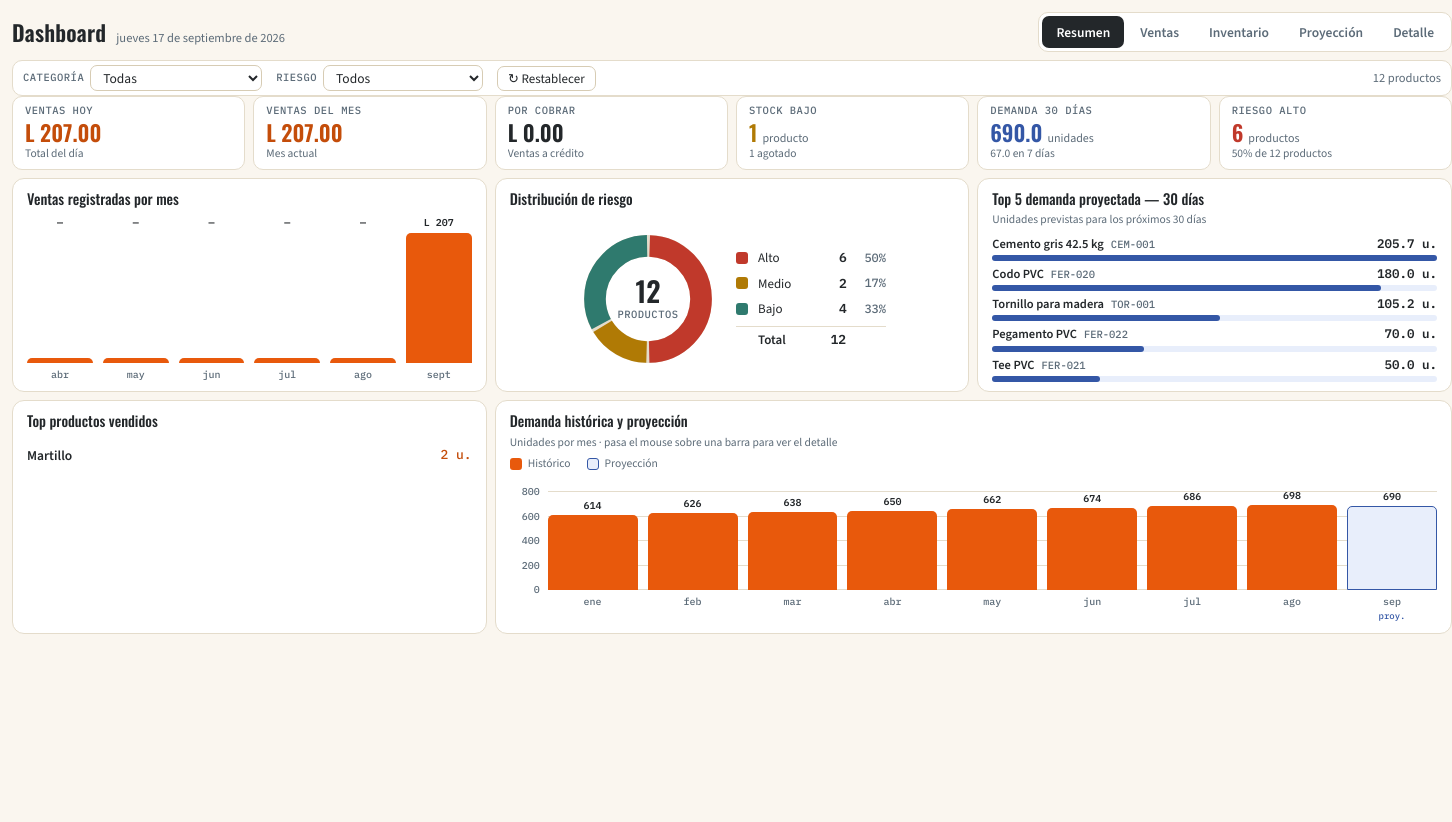
Test case: navegación entre vistas › Proyección muestra sus cinco cifras, los períodos y las cuatro gráficas
Check: the text "Distribución de riesgo" is shown, box [510,188,633,209]
Click the tab "Proyección": (1331, 32) [1285,16,1377,48]
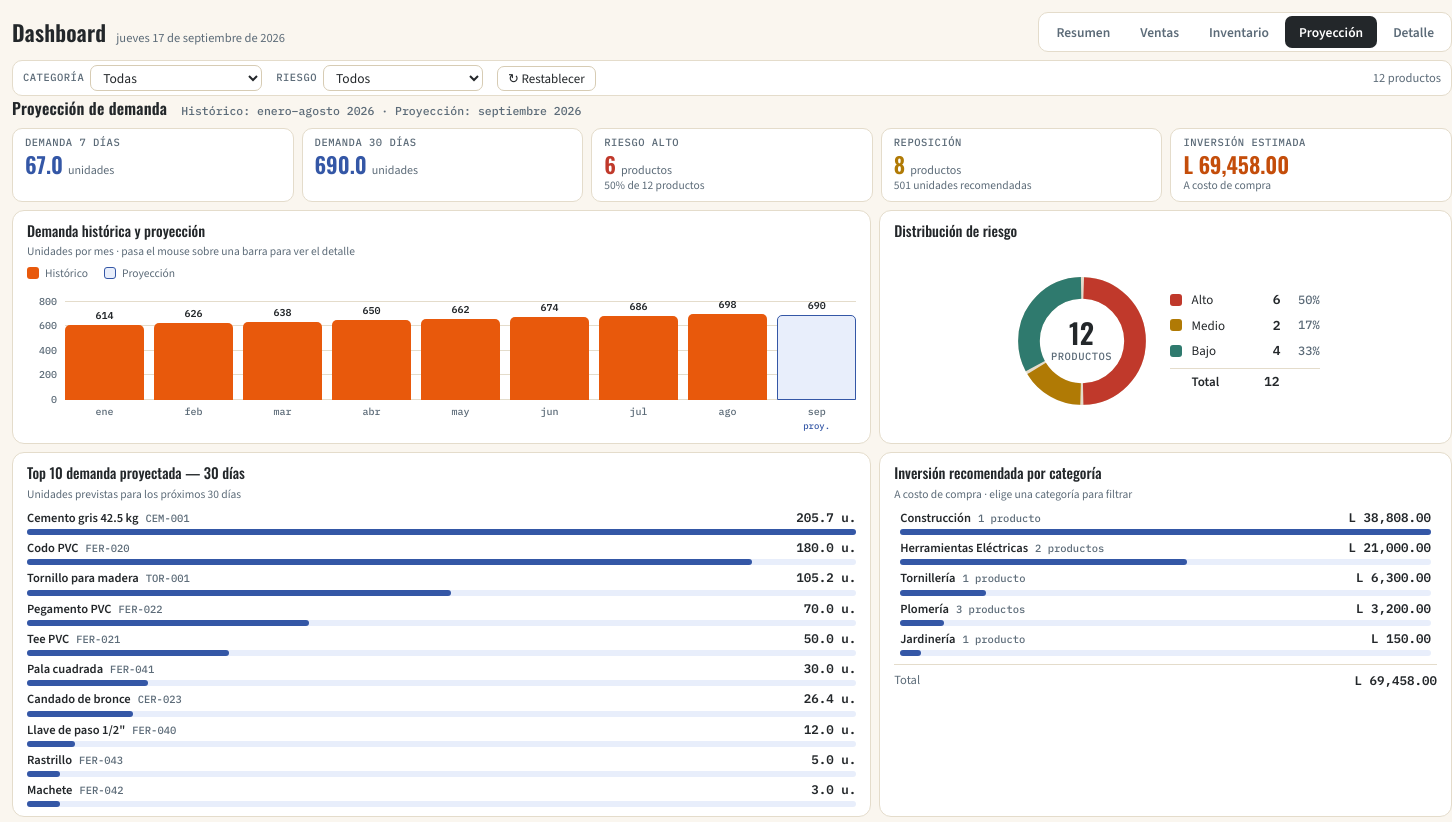
Check: the heading "Proyección de demanda" is shown, box [12,96,167,120]
Check: the text "Histórico: enero–agosto 2026 · Proyección: septiembre 2026" is shown, box [181,102,581,120]
Check: the elements "." read "Demanda 7 días", "Demanda 30 días", "Riesgo alto", "Reposición", "Inversión estimada", in this order, box [25,135,120,149]; [315,135,417,149]; [604,135,679,149]; [894,135,962,149]; [1183,135,1306,149]
